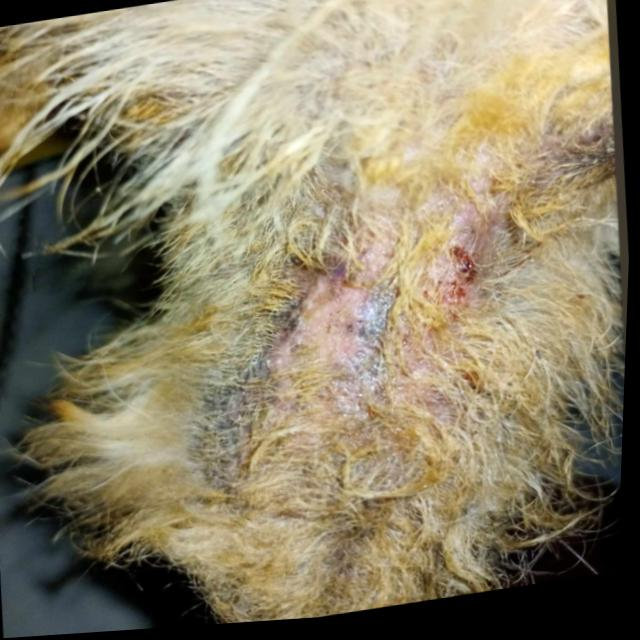demodicosis: (176, 200, 522, 490)
